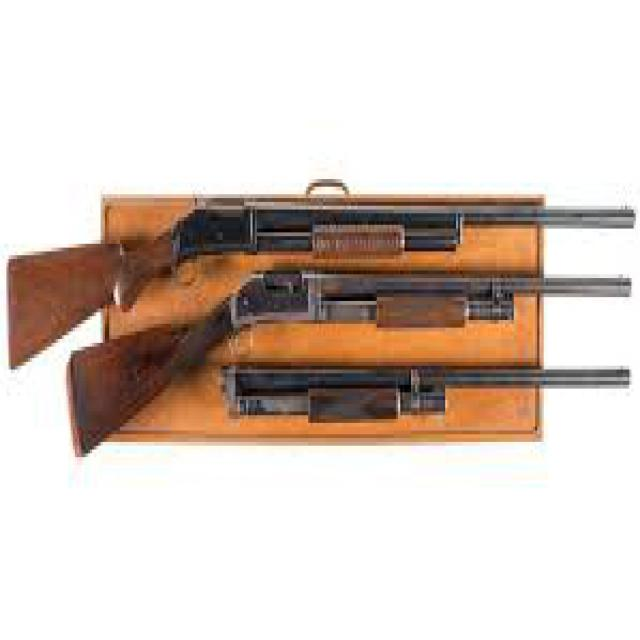long weapon: (32, 180, 637, 291), (103, 261, 635, 371)
